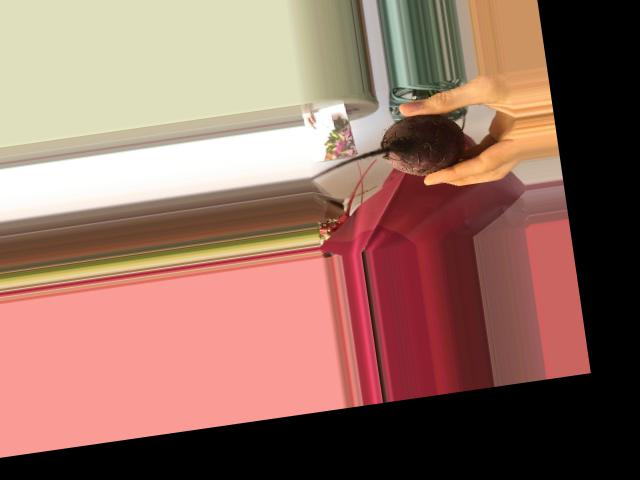beet: (302, 108, 470, 191)
